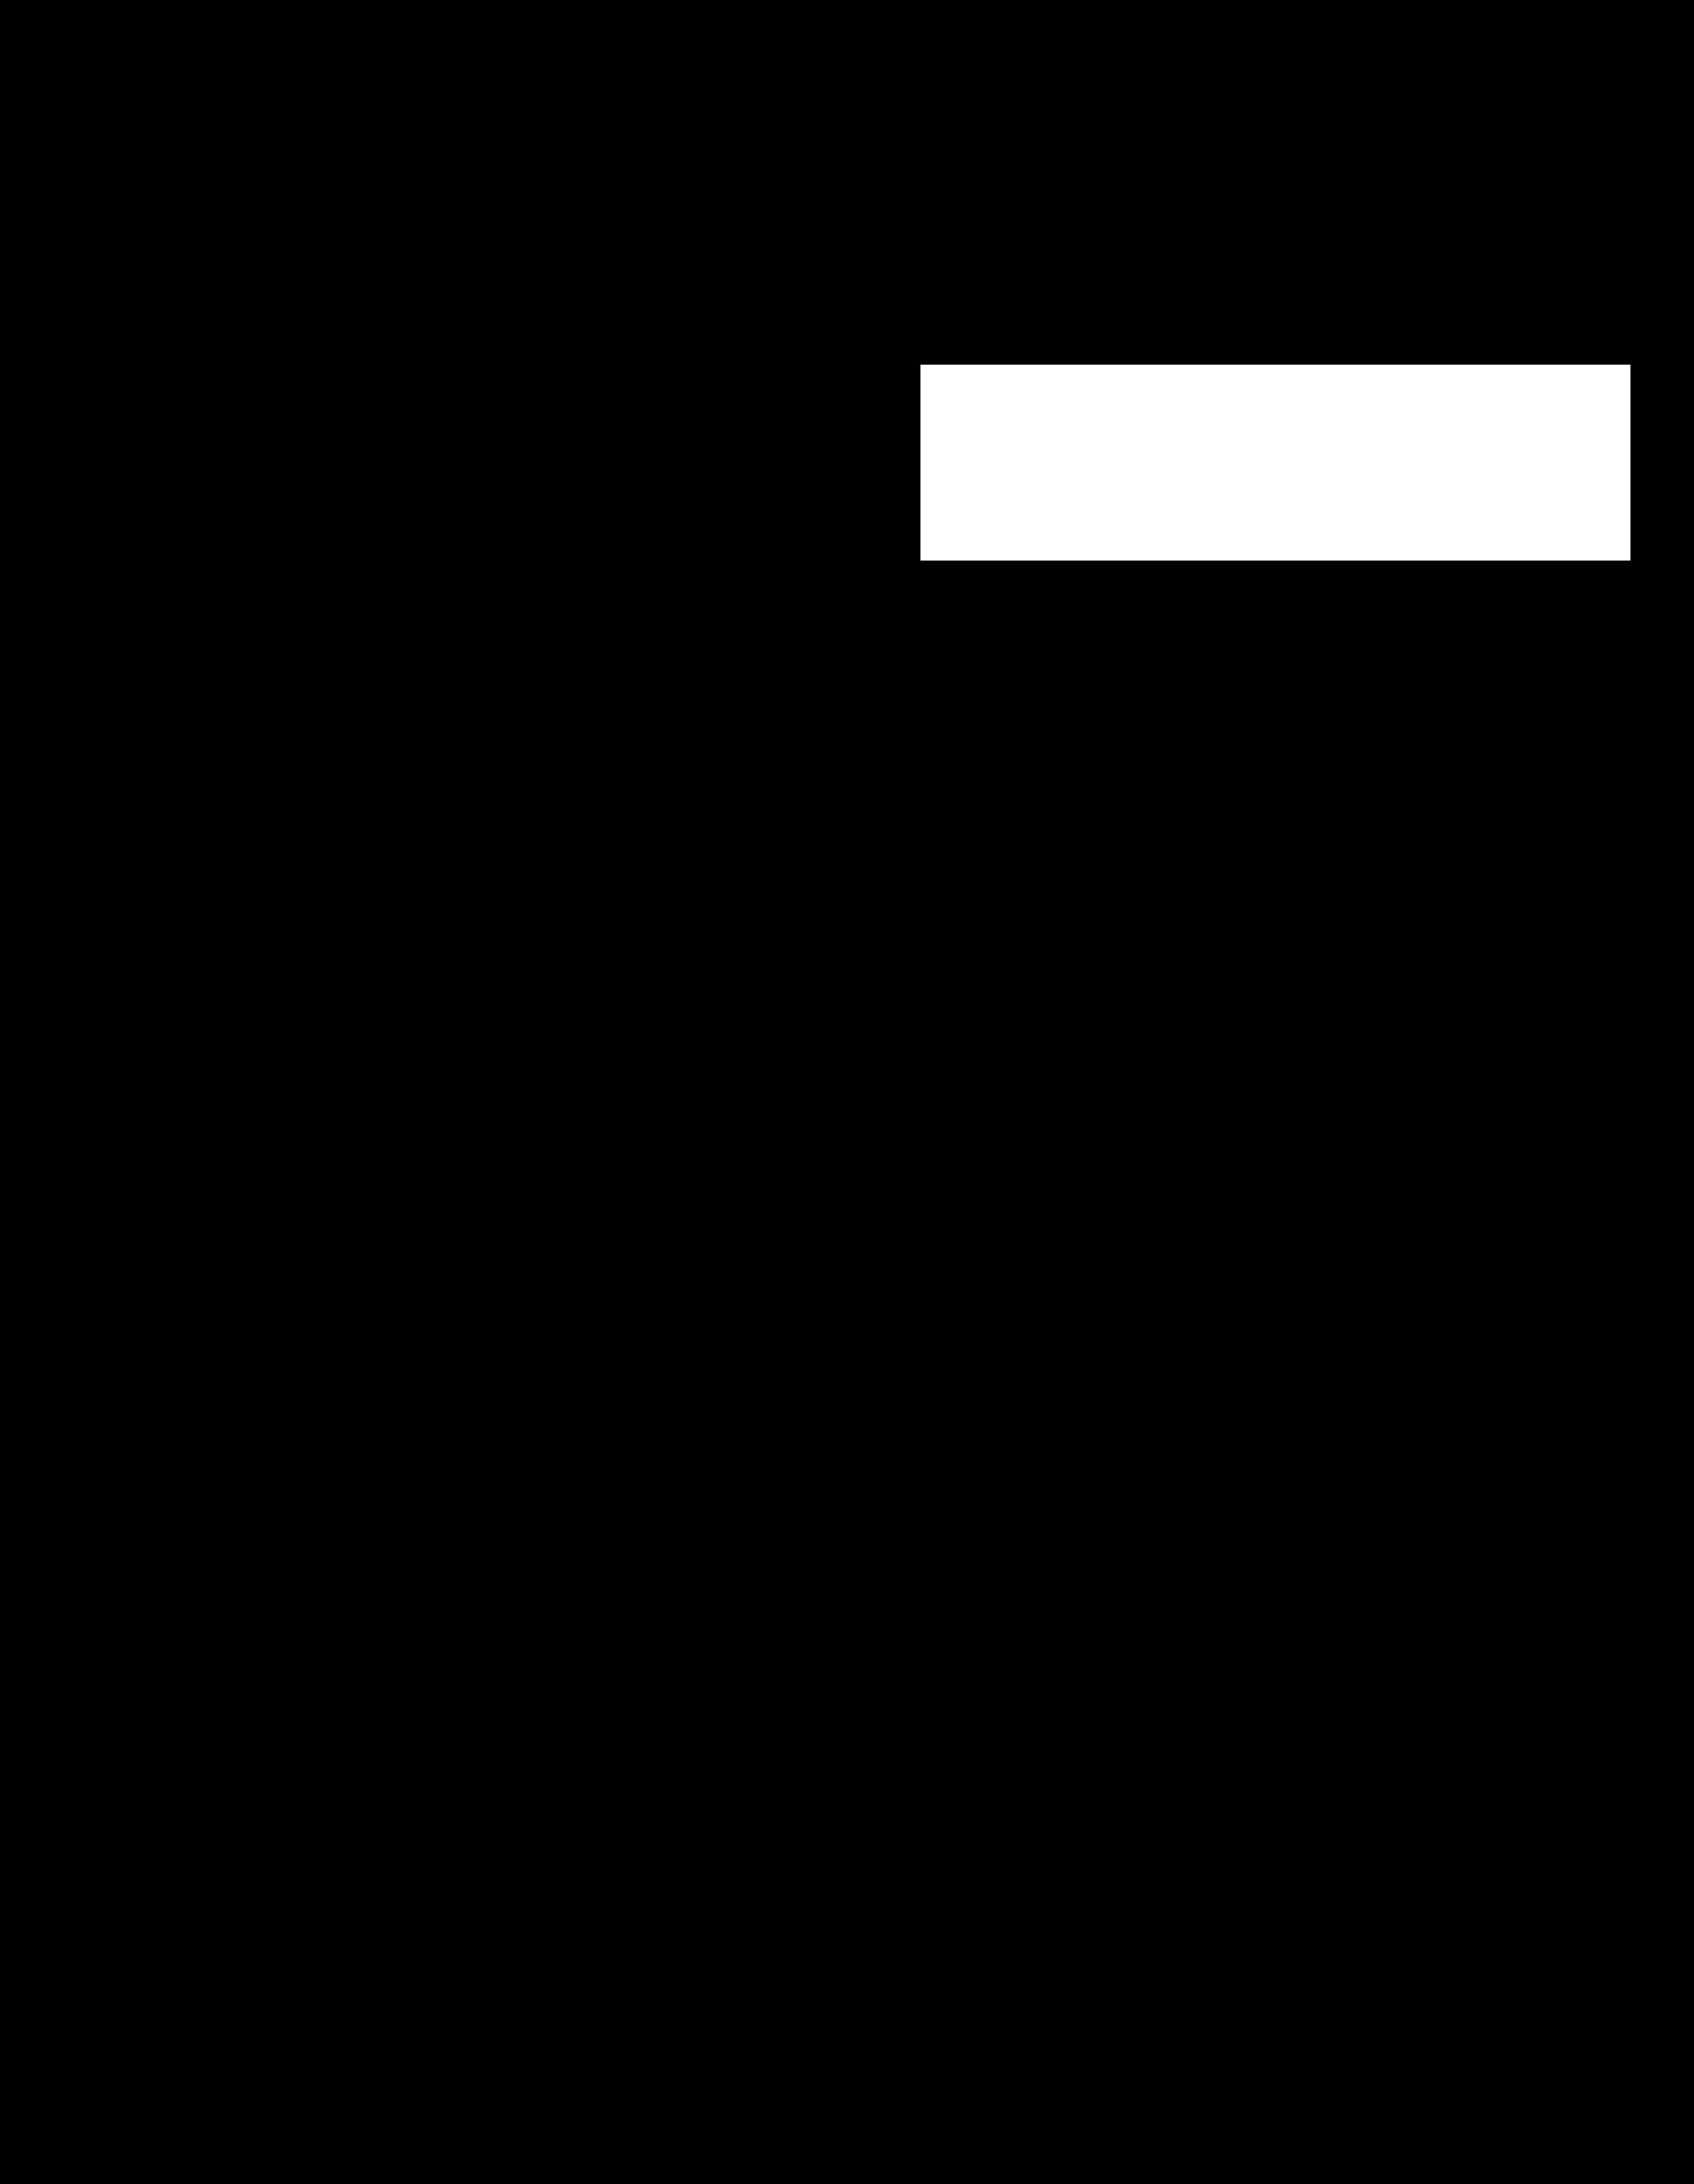table: (920, 365, 1630, 560)
